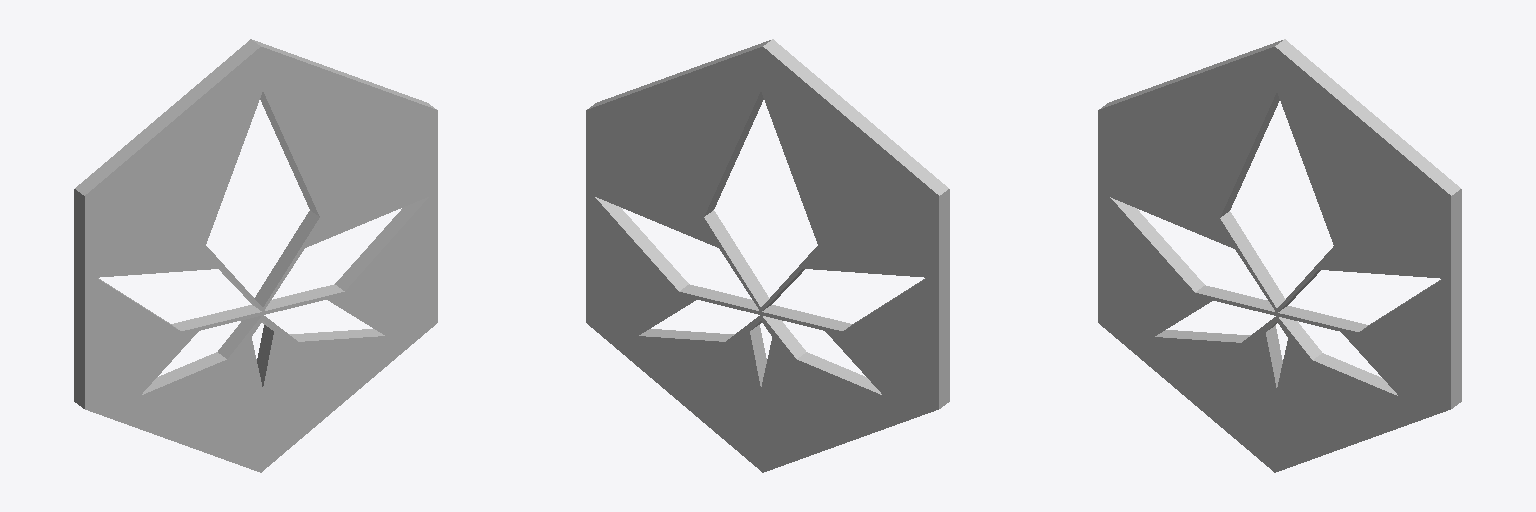
Rendered from token.obj.
3 views of the same model, side by side, from view 1: azimuth 30°, elevation 25°; view 2: azimuth 150°, elevation 25°; view 3: azimuth 330°, elevation 25° (orthographic).
Visible parts, largest first — view 1: 000_Token_1; view 2: 000_Token_1; view 3: 000_Token_1.
Boxes of the visible parts, box(x1,y1,x2,y2) form: 000_Token_1: box(74, 39, 437, 472); 000_Token_1: box(586, 39, 949, 472); 000_Token_1: box(1098, 39, 1461, 472).
Bounding box in the file's own units: 154 × 177 × 7.59.